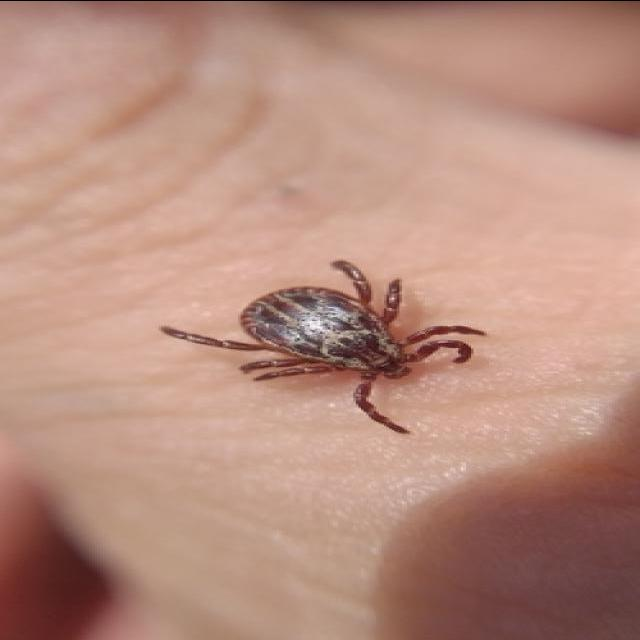Dermacentor Reticulatus-M: (159, 259, 484, 434)
